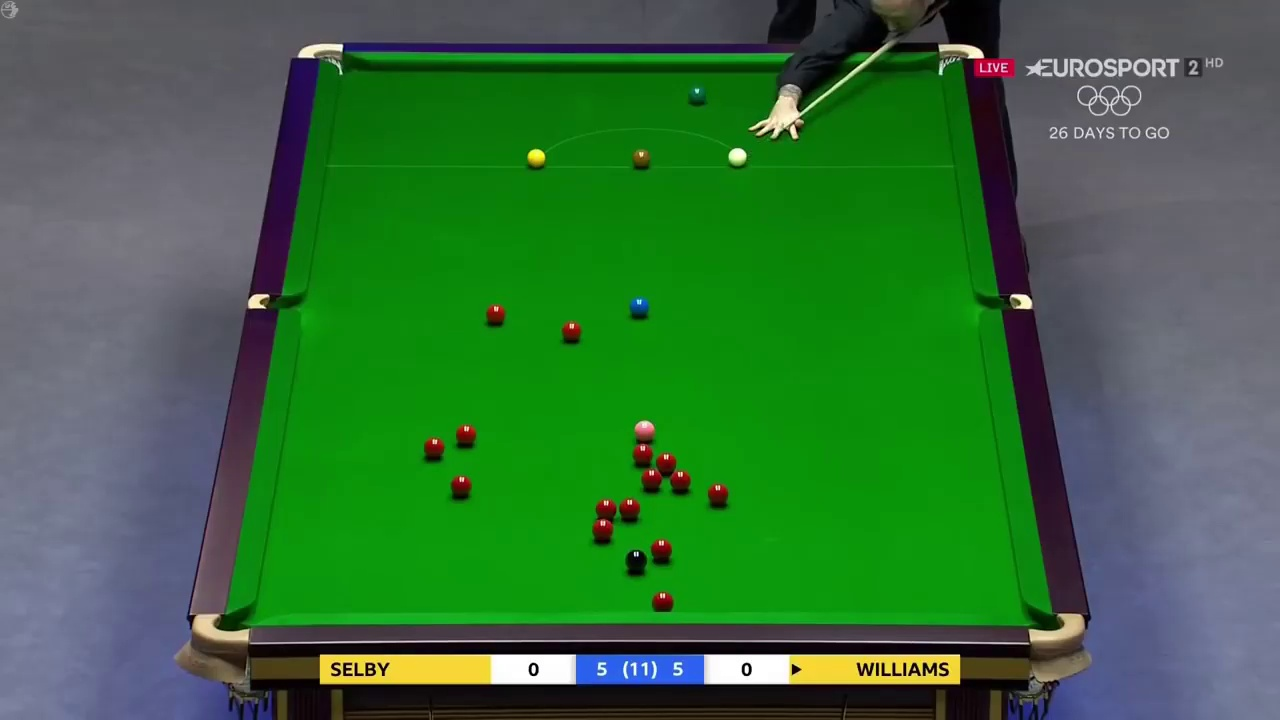ball: (667, 471, 693, 495), (648, 540, 672, 564), (558, 321, 583, 344), (422, 435, 445, 459), (616, 498, 640, 521), (589, 519, 613, 542), (706, 483, 729, 506), (627, 294, 649, 318), (453, 423, 475, 447), (624, 549, 649, 570), (485, 303, 507, 326), (634, 418, 654, 443), (451, 475, 472, 498), (726, 146, 748, 167), (639, 469, 661, 490), (631, 146, 651, 168), (524, 148, 546, 167), (686, 84, 706, 104)
